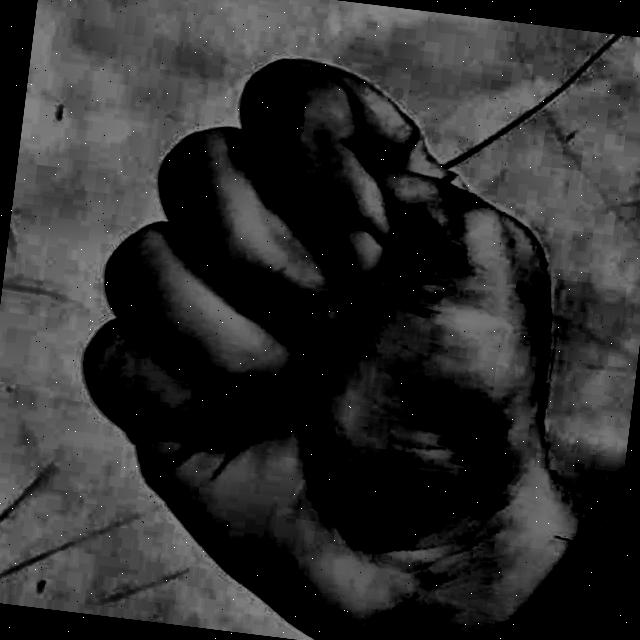To: (23, 16, 613, 640)
